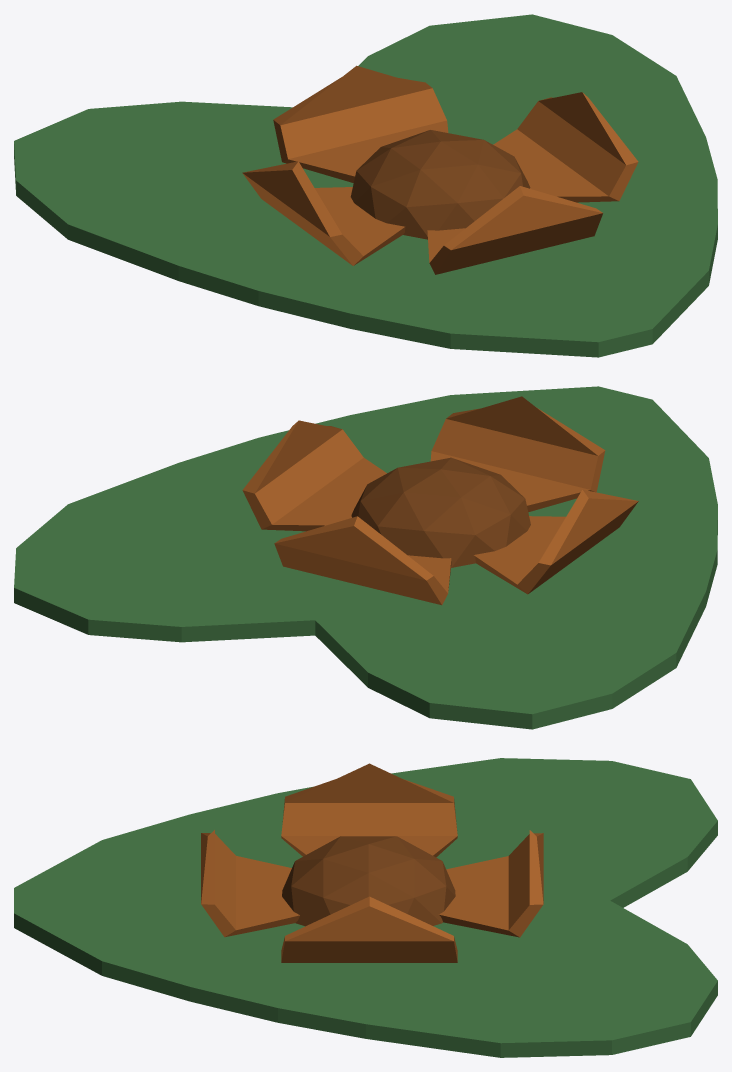
The model's file is Flower_6_Orange.fbx.
The picture shows the model from 3 angles, top to bottom: view 1: azimuth 30°, elevation 25°; view 2: azimuth 150°, elevation 25°; view 3: azimuth 270°, elevation 25°; orthographic projection. The views are drawn at different scales.
Visible parts, largest first — view 1: Flower_6_Orange_Part_1, Flower_6_Orange_Part_2, Flower_6_Orange_Part_3; view 2: Flower_6_Orange_Part_1, Flower_6_Orange_Part_2, Flower_6_Orange_Part_3; view 3: Flower_6_Orange_Part_1, Flower_6_Orange_Part_2, Flower_6_Orange_Part_3.
Boxes of the visible parts, bbox=[...] form: Flower_6_Orange_Part_1: bbox=[14, 14, 717, 357]; Flower_6_Orange_Part_2: bbox=[242, 65, 638, 274]; Flower_6_Orange_Part_3: bbox=[350, 130, 530, 239]; Flower_6_Orange_Part_1: bbox=[14, 386, 717, 729]; Flower_6_Orange_Part_2: bbox=[242, 396, 638, 605]; Flower_6_Orange_Part_3: bbox=[351, 457, 530, 567]; Flower_6_Orange_Part_1: bbox=[14, 758, 717, 1057]; Flower_6_Orange_Part_2: bbox=[201, 763, 543, 962]; Flower_6_Orange_Part_3: bbox=[282, 836, 455, 926].
Bounding box in the file's own units: 76.67 × 10.7 × 80.
